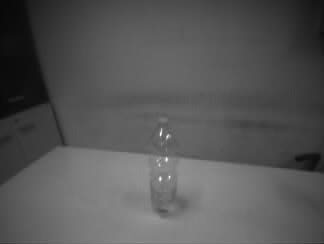Bottle: (146, 116, 180, 218)
